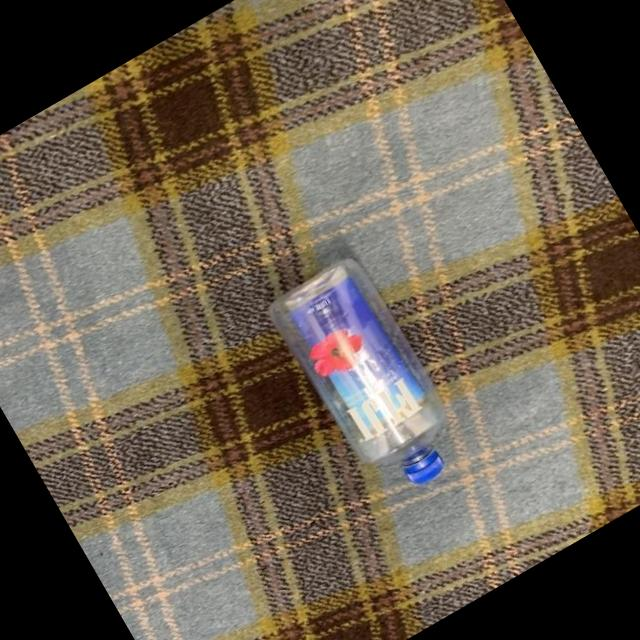BotolPlastik: (263, 249, 477, 511)
